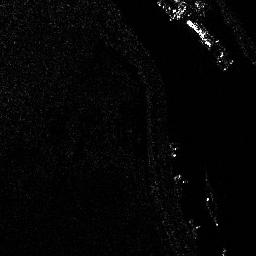ship: (185, 17, 213, 47)
